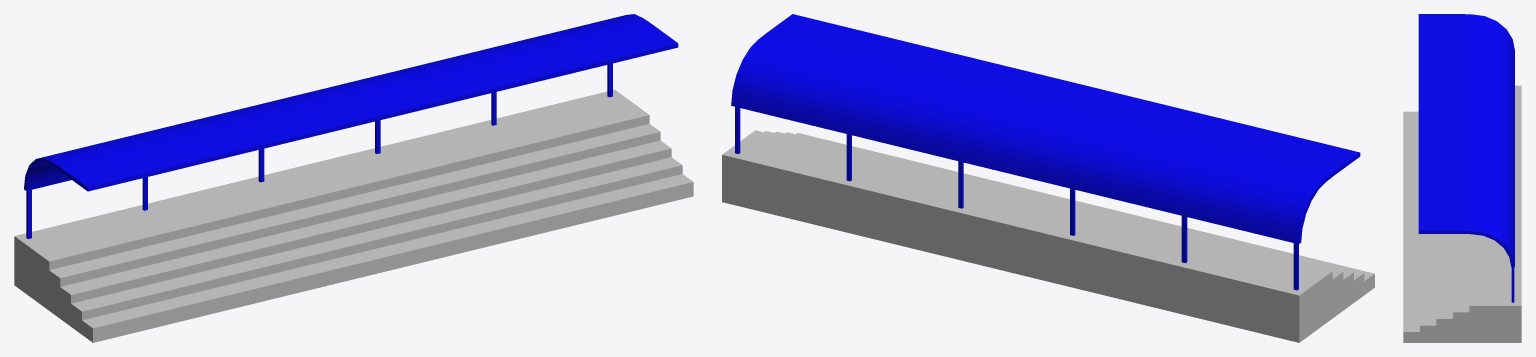
The model's file is spec_stand (1).fbx.
3 views of the same model, side by side, from view 1: azimuth 30°, elevation 25°; view 2: azimuth 150°, elevation 25°; view 3: azimuth 270°, elevation 25° (orthographic). The views are drawn at different scales.
Visible parts, largest first — view 1: pCylinder2; view 2: pCylinder2; view 3: pCylinder2.
Boxes of the visible parts, box(x1,y1,x2,y2) form: pCylinder2: box(14, 14, 693, 342); pCylinder2: box(722, 14, 1374, 342); pCylinder2: box(1403, 14, 1521, 342).
Bounding box in the file's own units: 32.43 × 7.58 × 7.36.
